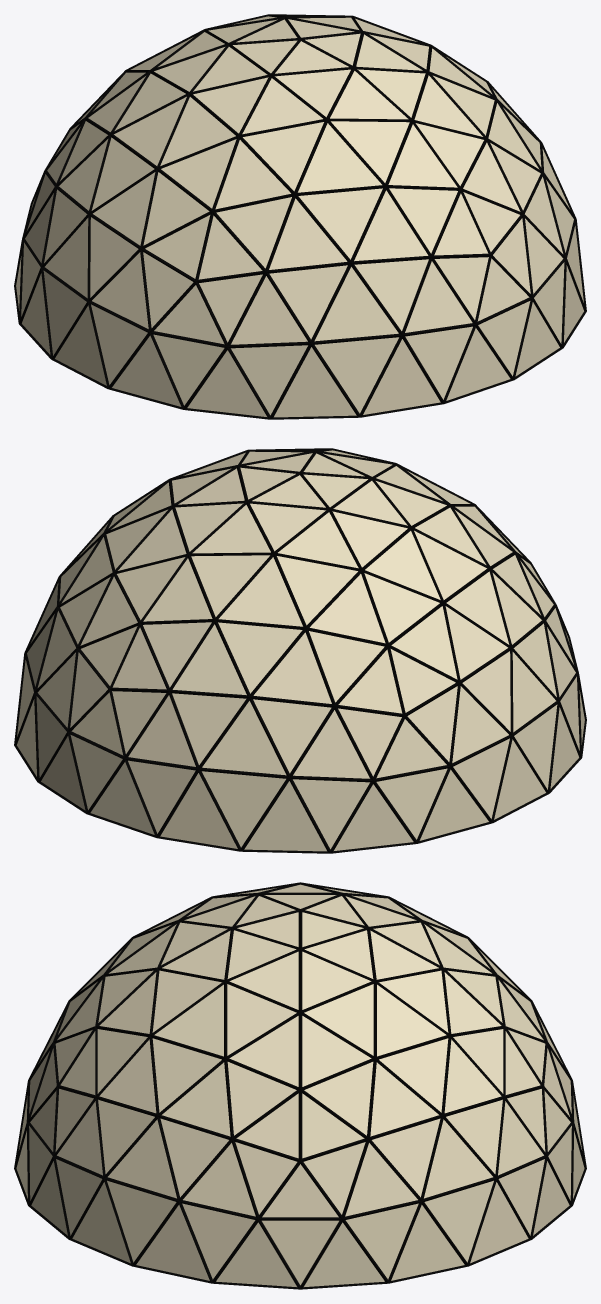
Rendered from Dome_With_Glass.fbx.
3 renders of one model, top to bottom at view 1: azimuth 30°, elevation 25°; view 2: azimuth 150°, elevation 25°; view 3: azimuth 270°, elevation 25°, orthographic.
Visible parts, largest first — view 1: Icosphere; view 2: Icosphere; view 3: Icosphere.
Part boxes in pixels (x1=…): Icosphere: x1=14, y1=14, x2=586, y2=419; Icosphere: x1=14, y1=448, x2=586, y2=853; Icosphere: x1=14, y1=882, x2=586, y2=1289.
Size of the model in its own units: 4025 by 2014 by 4025.
